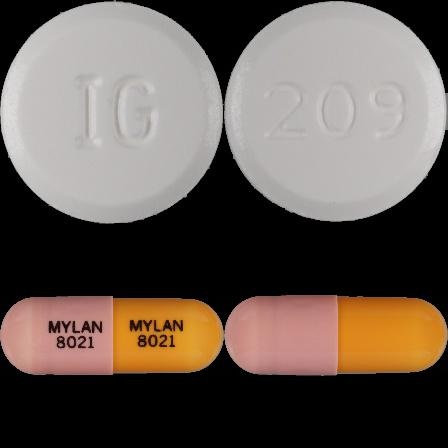68151-1327: (0, 0, 224, 224)
